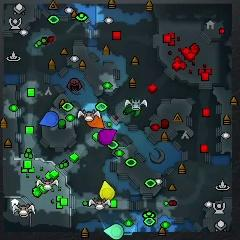p1: (39, 111, 59, 126)
p2: (103, 224, 124, 240)
p3: (98, 129, 117, 146)
p4: (100, 181, 115, 200)
p5: (86, 113, 105, 129)
x4: (124, 104, 141, 117)
